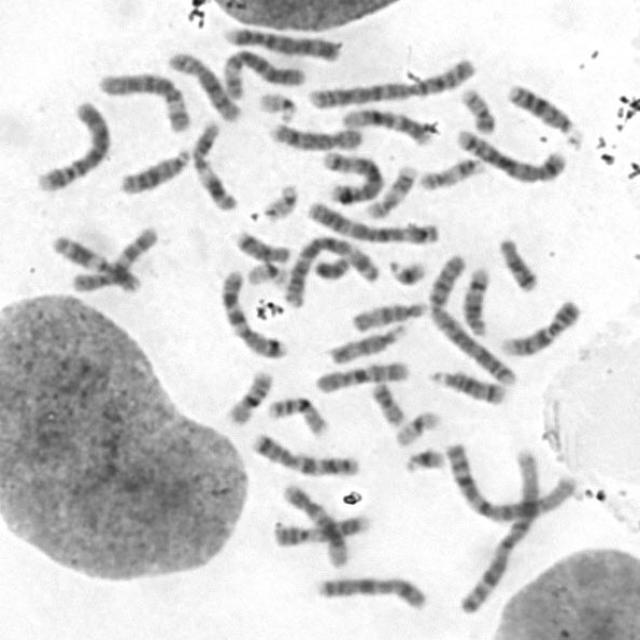A1: (452, 441, 543, 618), (440, 436, 581, 523)
A2: (424, 250, 519, 388), (304, 51, 480, 111)
A3: (277, 229, 382, 308), (302, 194, 442, 246)
B4: (32, 94, 114, 194), (220, 20, 344, 63)
B5: (450, 122, 568, 184), (318, 147, 386, 206)
C10: (66, 220, 161, 295), (311, 355, 412, 396)
C11: (46, 228, 144, 294), (186, 115, 240, 212)
C12: (276, 477, 353, 569), (338, 102, 438, 147)
C6: (94, 67, 194, 134), (217, 44, 309, 100)
C7: (215, 265, 289, 358), (246, 426, 362, 478)
C8: (161, 47, 243, 123), (266, 117, 366, 152)
C9: (495, 292, 583, 358), (267, 507, 373, 548)
D13: (504, 76, 585, 148), (115, 142, 195, 196)
D14: (422, 363, 508, 405), (457, 260, 492, 337)
D15: (325, 318, 410, 366), (348, 293, 430, 334)
E16: (220, 365, 276, 427), (262, 390, 331, 438)
E17: (362, 160, 419, 221), (415, 150, 487, 192)
E18: (494, 231, 541, 293), (232, 225, 292, 264)
F19: (389, 405, 444, 448), (241, 256, 293, 288)
F20: (455, 82, 498, 135), (366, 376, 406, 426)
G21: (399, 441, 449, 475), (384, 253, 430, 288)
G22: (257, 178, 301, 223), (253, 85, 300, 122)
X: (310, 570, 429, 611)
Y: (311, 252, 352, 281)
